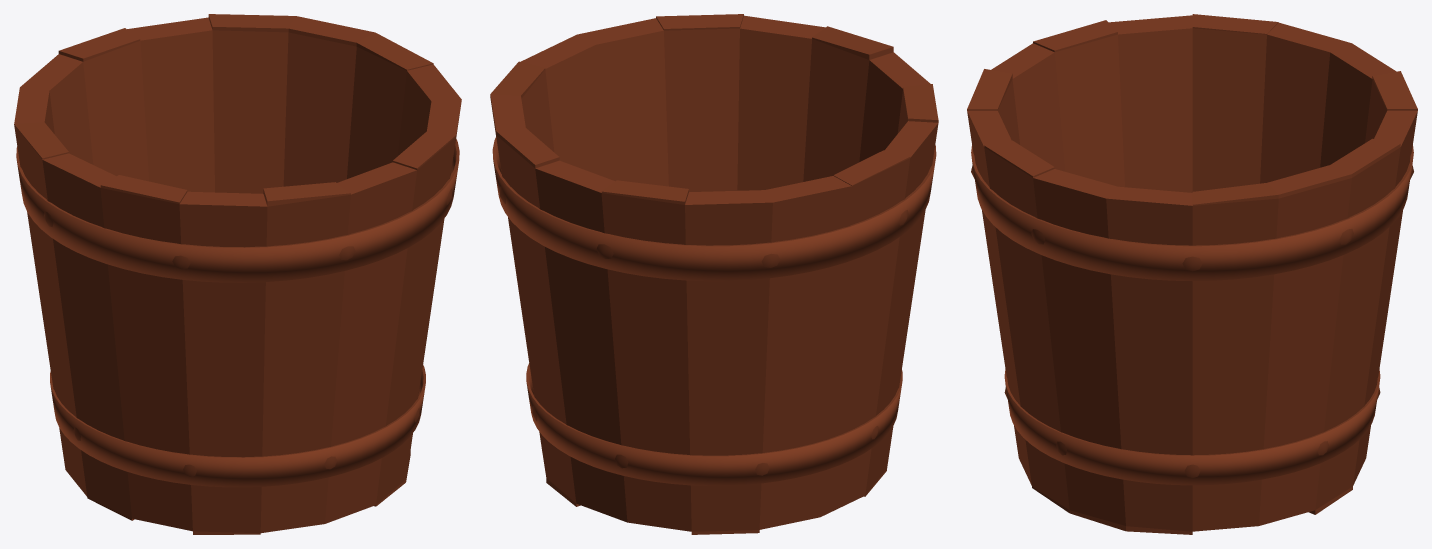
File: myBucket.glb
3 views of the same model, side by side, from view 1: azimuth 30°, elevation 25°; view 2: azimuth 150°, elevation 25°; view 3: azimuth 270°, elevation 25° (orthographic).
Parts seen in each view (by area): view 1: bucket; view 2: bucket; view 3: bucket.
Boxes of the visible parts, x1,y1,x2,y2 form: bucket: (14, 14, 461, 534); bucket: (490, 14, 938, 534); bucket: (967, 14, 1417, 534).
Size of the model in its own units: 3.2 by 2.8 by 3.2.
